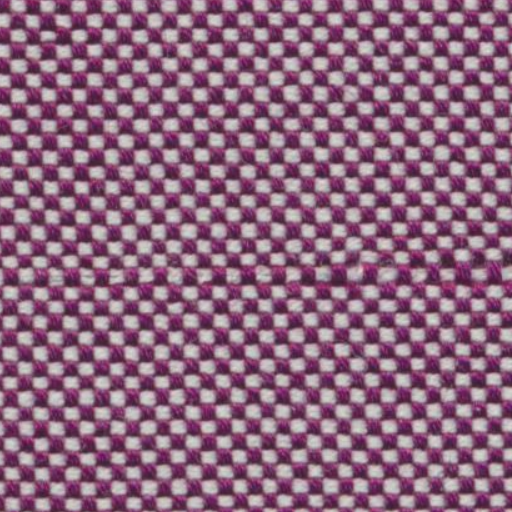TuoSha: (9, 239, 494, 319)
